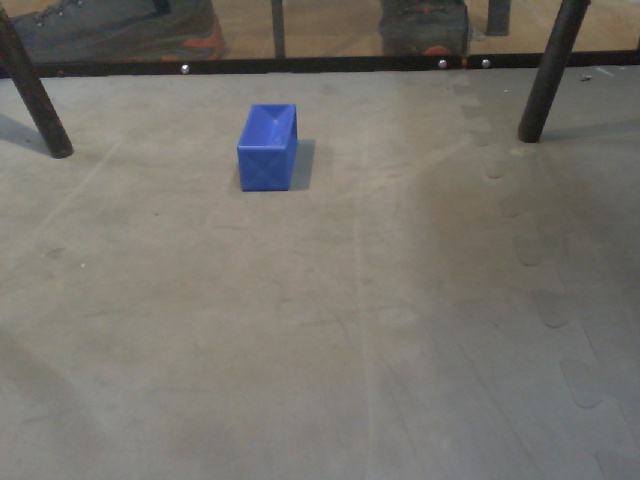BlueSample: (234, 100, 303, 196)
